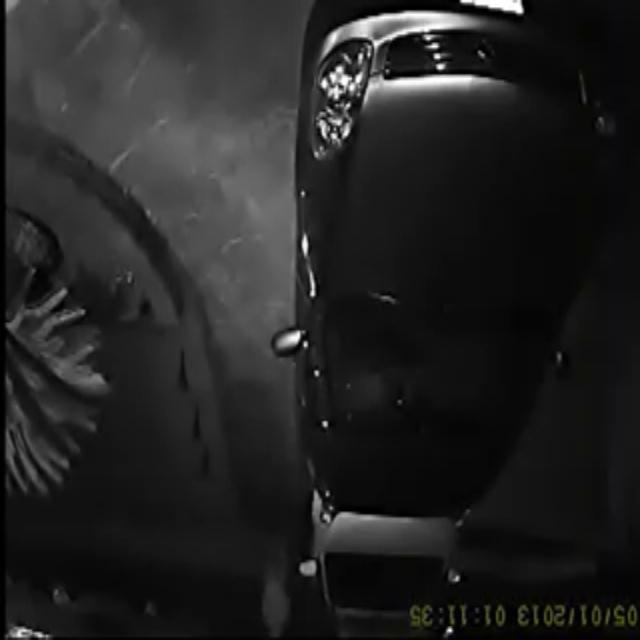car: (261, 19, 547, 520), (286, 458, 485, 638)
criminal: (248, 527, 306, 637)
